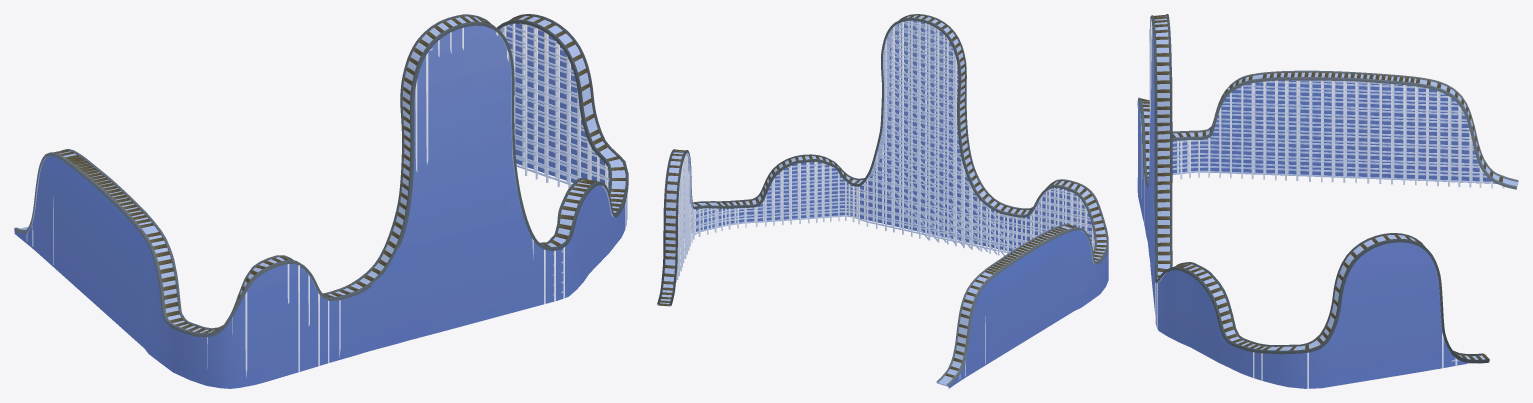
The model's file is roller_coaster.glb.
3 views of the same model, side by side, from view 1: azimuth 30°, elevation 25°; view 2: azimuth 150°, elevation 25°; view 3: azimuth 270°, elevation 25° (orthographic). The views are drawn at different scales.
Visible parts, largest first — view 1: Object_2, Object_3; view 2: Object_3, Object_2; view 3: Object_2, Object_3.
Part boxes in pixels (x1=…): Object_2: x1=14, y1=23, x2=627, y2=388; Object_3: x1=14, y1=14, x2=628, y2=377; Object_3: x1=657, y1=14, x2=1108, y2=386; Object_2: x1=684, y1=20, x2=1108, y2=388; Object_2: x1=1137, y1=23, x2=1518, y2=388; Object_3: x1=1137, y1=14, x2=1518, y2=388.
Bounding box in the file's own units: 185 × 106 × 137.
1 material, 1 textured.
